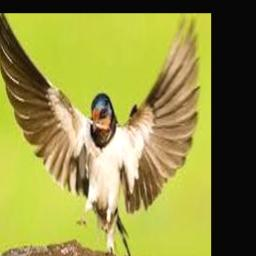Swallow: (0, 13, 199, 256)
